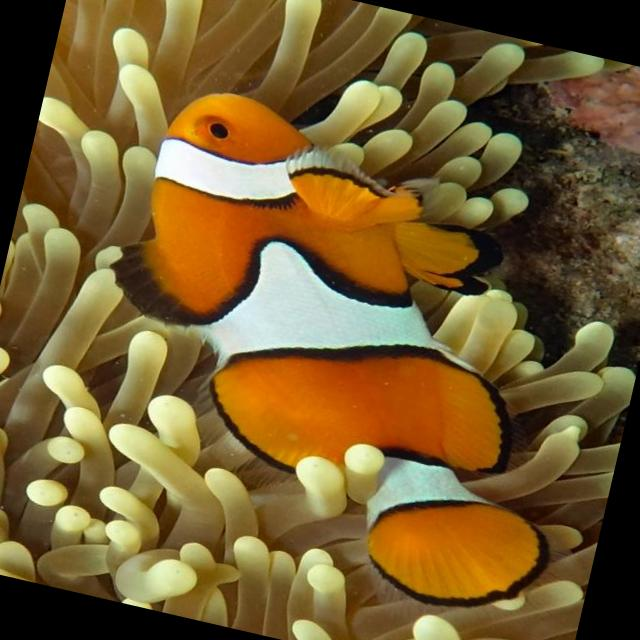ClownFish: (74, 79, 632, 616)
